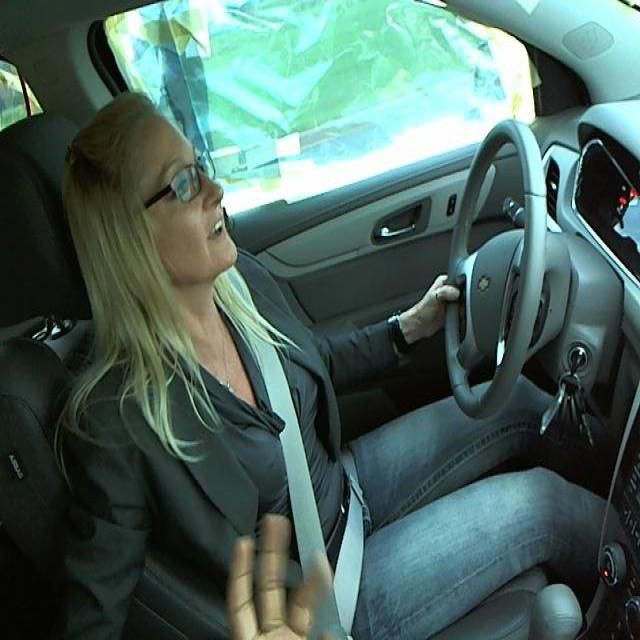seatbelt: (224, 313, 383, 611)
